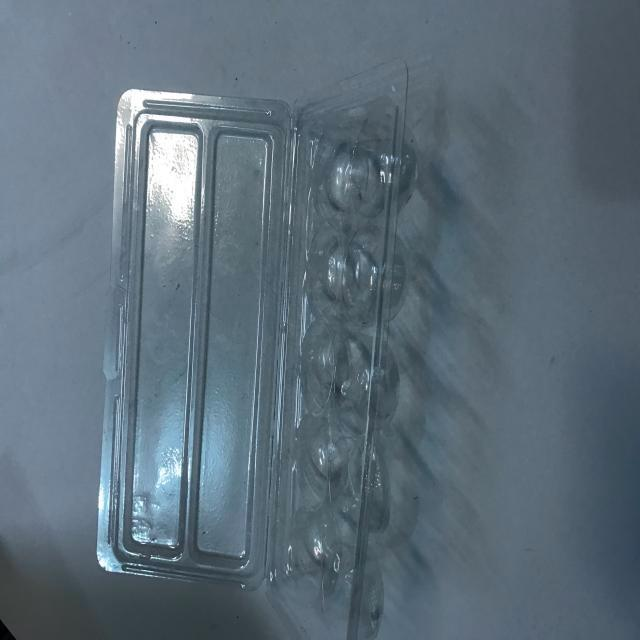plastic: (86, 39, 456, 640)
